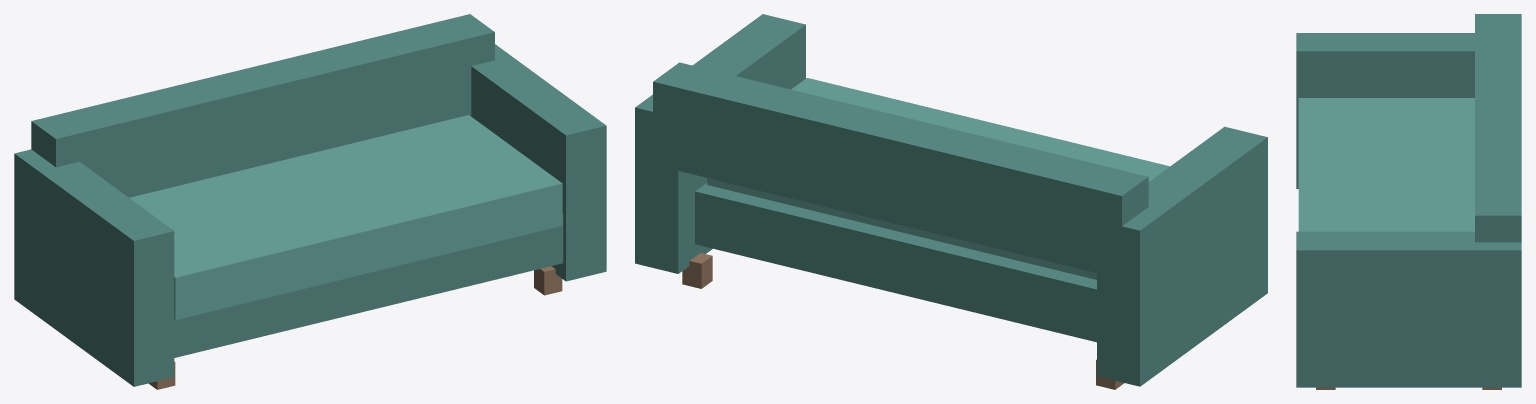
The model's file is lounge-sofa.glb.
3 renders of one model, left to right at view 1: azimuth 30°, elevation 25°; view 2: azimuth 150°, elevation 25°; view 3: azimuth 270°, elevation 25°, orthographic. The views are drawn at different scales.
Bounding box in the file's own units: 2.1 × 0.82 × 0.92.
